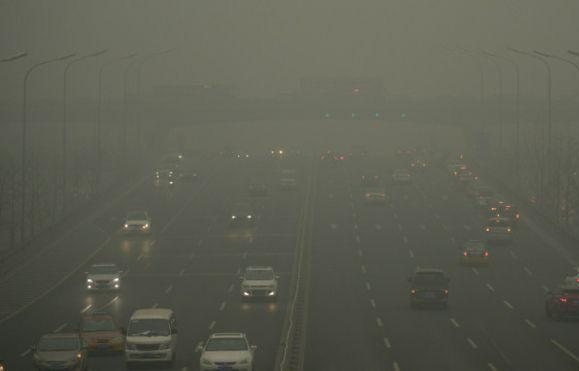car: (119, 308, 182, 368), (196, 329, 258, 371), (31, 330, 88, 368), (77, 309, 121, 355), (405, 268, 450, 309), (238, 263, 282, 301), (542, 281, 579, 319), (84, 263, 124, 292), (457, 239, 488, 265), (482, 217, 513, 243), (121, 210, 152, 235), (228, 201, 255, 225), (361, 183, 386, 203), (248, 175, 269, 195), (391, 168, 413, 185), (280, 168, 297, 189)
